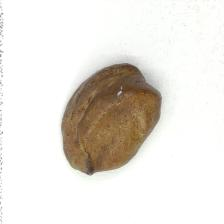NG: (85, 94, 161, 175)
